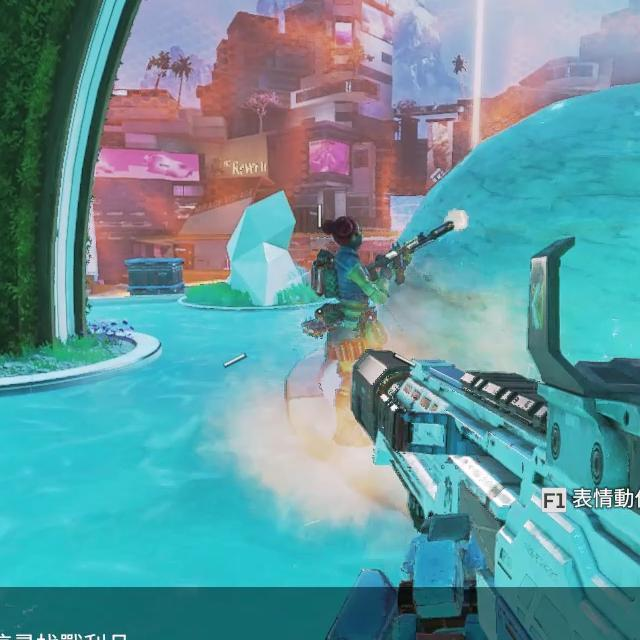avatar: (299, 213, 396, 350)
